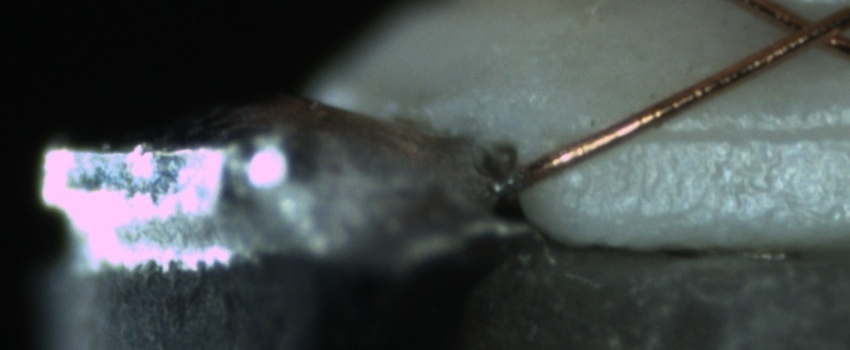CL: (764, 3, 845, 55)
DL: (609, 98, 845, 165)
TS: (491, 167, 526, 197)
